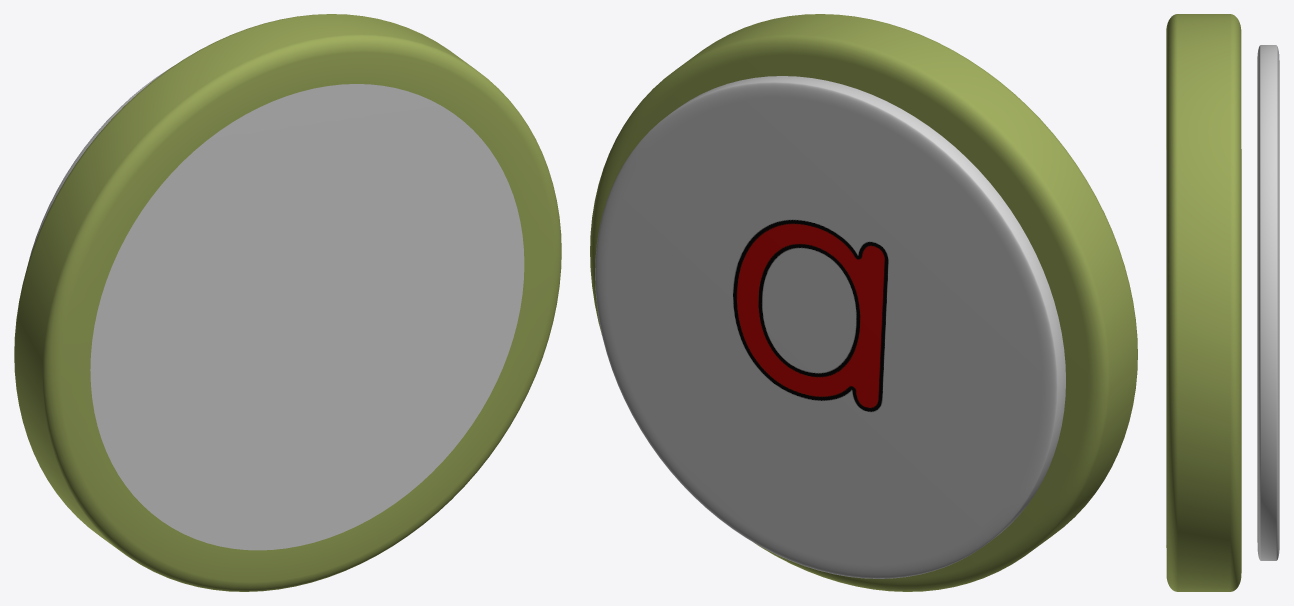
Rendered from apple7.gltf.
The picture shows the model from 3 angles, left to right: view 1: azimuth 30°, elevation 25°; view 2: azimuth 150°, elevation 25°; view 3: azimuth 270°, elevation 25°; orthographic projection. The views are drawn at different scales.
Visible parts, largest first — view 1: Cylinder.001; view 2: Cylinder_2, Cylinder.001; view 3: Cylinder.001, Cylinder_2.
Part boxes in pixels (x1,y1,x2,y2): Cylinder.001: [14, 14, 561, 591]; Cylinder_2: [595, 76, 1065, 578]; Cylinder.001: [590, 14, 1137, 591]; Cylinder.001: [1166, 14, 1241, 591]; Cylinder_2: [1257, 45, 1279, 560].
Size of what is drawn, in the model's own units: 2.56 by 2.56 by 0.5025.
3 materials, 1 textured.
